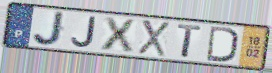D: (205, 25, 239, 64)
J: (31, 11, 67, 48), (70, 16, 97, 49)
T: (175, 23, 204, 59)
X: (136, 18, 171, 59), (100, 16, 137, 53)
